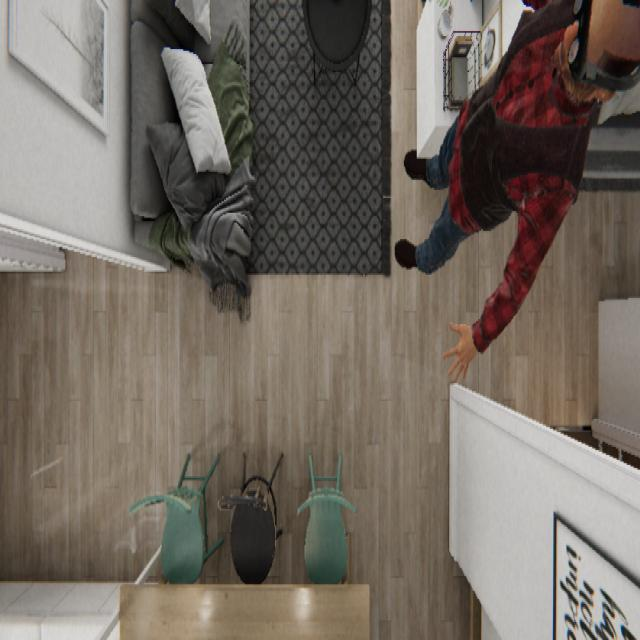Human: (394, 0, 638, 385)
